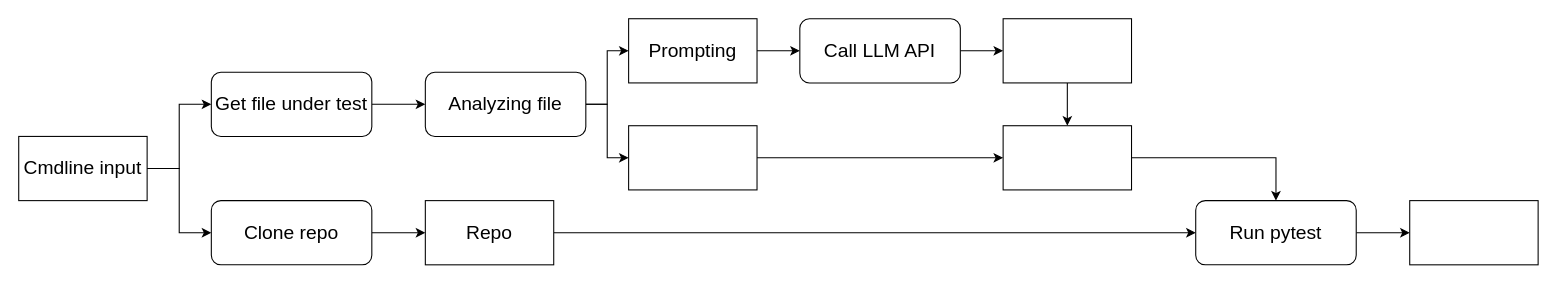
Image size: 1557x284. Some labels were removed from this diagram. Each missing label, with the box of its shape:
Packages: (628, 125, 757, 190)
Pytest report: (1409, 200, 1538, 265)
Test cases: (1002, 18, 1132, 83)
Test file: (1002, 125, 1132, 190)
